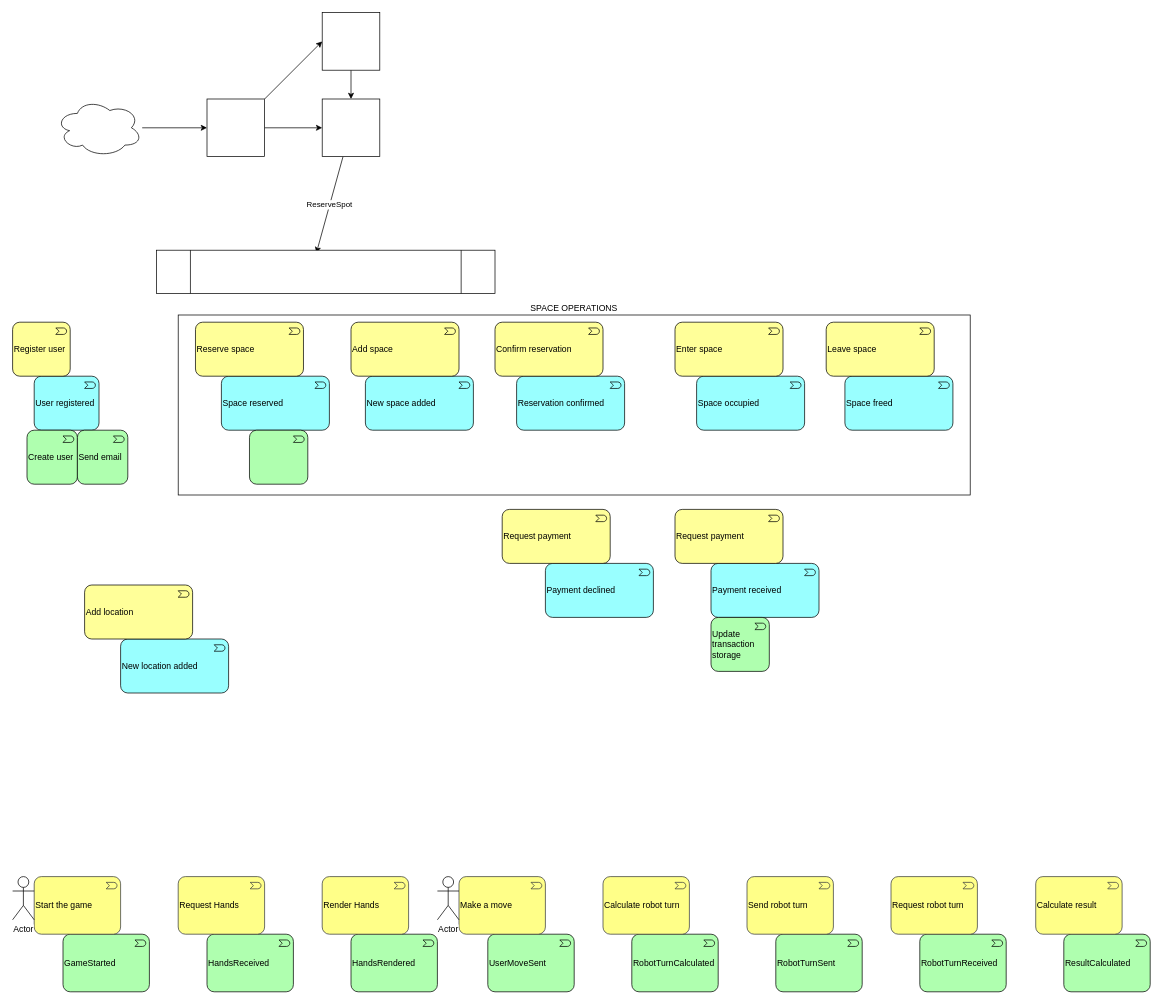
This 1163x1004 diagram has some shape labels left out. The centre of each missing label's shape, as x and y in pixels:
"LoadBalancer" goes at point (235, 127).
"MessageQueue" goes at point (325, 271).
"Update space data" goes at point (278, 456).
